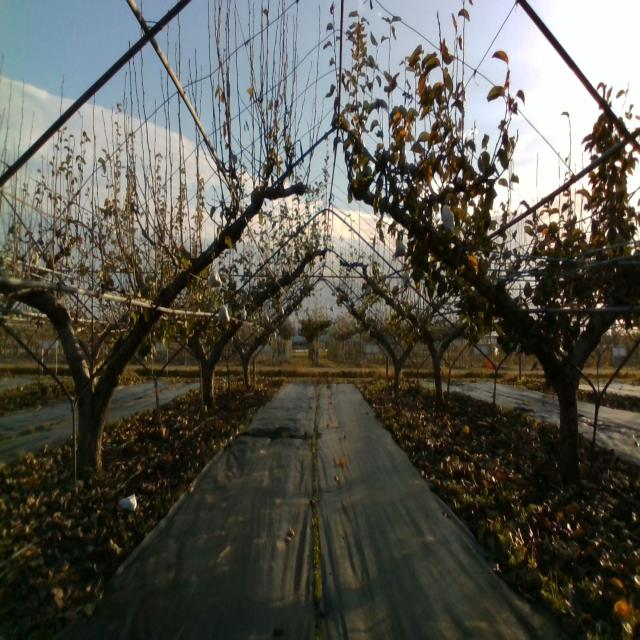pearbags: (441, 203, 456, 236), (218, 300, 230, 324), (393, 237, 406, 259), (208, 268, 221, 288)
